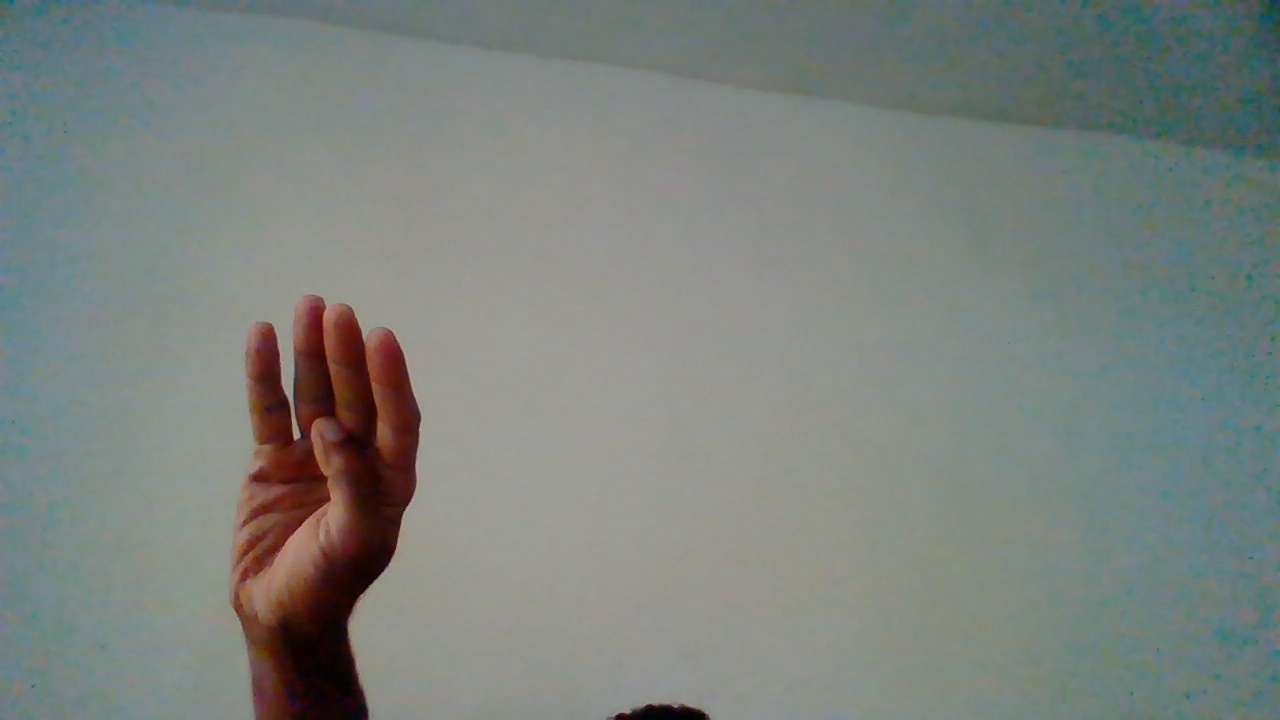me: (223, 295, 423, 706)
